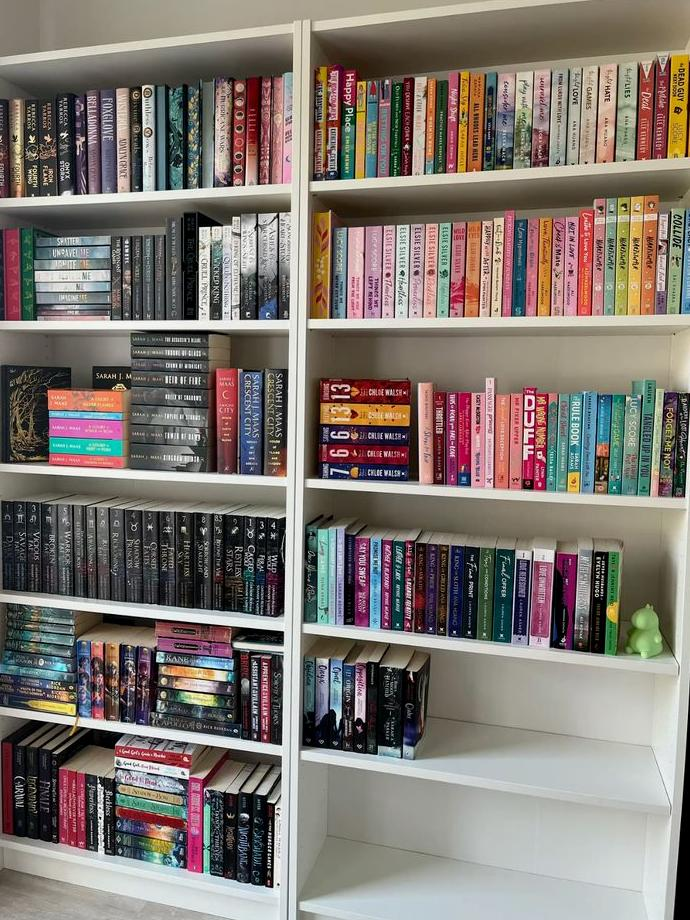book: (553, 538, 578, 652), (214, 368, 239, 472), (238, 370, 263, 474), (492, 534, 515, 645), (510, 536, 533, 647), (264, 368, 288, 474), (615, 60, 638, 161), (257, 211, 278, 320), (56, 93, 78, 195), (595, 62, 617, 164), (640, 194, 658, 317), (626, 193, 644, 314), (621, 393, 642, 496), (634, 58, 655, 160), (651, 53, 671, 158), (238, 213, 257, 319), (579, 65, 599, 165), (613, 197, 630, 314), (593, 392, 612, 494), (325, 66, 342, 178), (496, 72, 515, 170), (590, 198, 606, 314), (354, 524, 372, 627), (514, 72, 533, 169), (132, 331, 232, 349), (532, 69, 550, 167), (167, 85, 184, 188), (567, 392, 584, 495), (39, 99, 57, 196), (602, 198, 617, 314), (580, 391, 597, 493), (214, 78, 230, 186), (577, 209, 593, 315), (186, 83, 202, 188), (566, 67, 583, 165), (521, 386, 537, 490), (347, 226, 365, 318), (100, 90, 116, 193), (3, 229, 21, 320), (342, 70, 357, 178), (72, 92, 88, 193), (449, 223, 466, 318), (313, 66, 327, 181), (245, 78, 260, 185), (165, 217, 181, 317), (132, 358, 226, 375), (141, 85, 156, 191), (23, 99, 39, 197), (550, 216, 566, 314), (86, 91, 101, 194), (115, 89, 130, 192), (464, 222, 480, 318), (270, 75, 284, 184), (423, 225, 439, 319), (436, 223, 452, 316), (8, 99, 23, 197), (153, 86, 167, 191), (132, 346, 230, 361), (563, 216, 578, 314), (533, 392, 548, 490), (331, 228, 347, 319), (479, 220, 494, 317), (377, 79, 392, 176), (129, 87, 143, 190), (501, 215, 515, 318), (469, 74, 484, 170), (457, 392, 472, 488), (495, 393, 510, 489), (412, 77, 427, 173), (483, 73, 498, 169), (483, 377, 496, 487), (259, 76, 272, 184), (394, 225, 409, 318), (21, 228, 36, 320), (381, 226, 396, 318), (445, 73, 459, 171), (509, 391, 523, 489), (456, 73, 470, 170), (364, 80, 378, 176), (367, 226, 381, 316), (446, 391, 459, 487), (401, 79, 414, 175), (390, 80, 403, 174), (197, 226, 210, 315), (34, 235, 113, 248), (143, 236, 154, 318), (0, 100, 9, 197)
